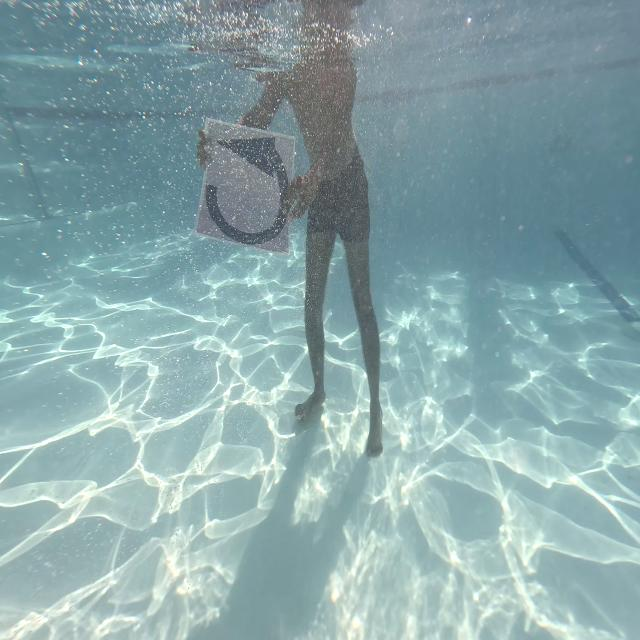blue_side: (196, 106, 296, 266)
